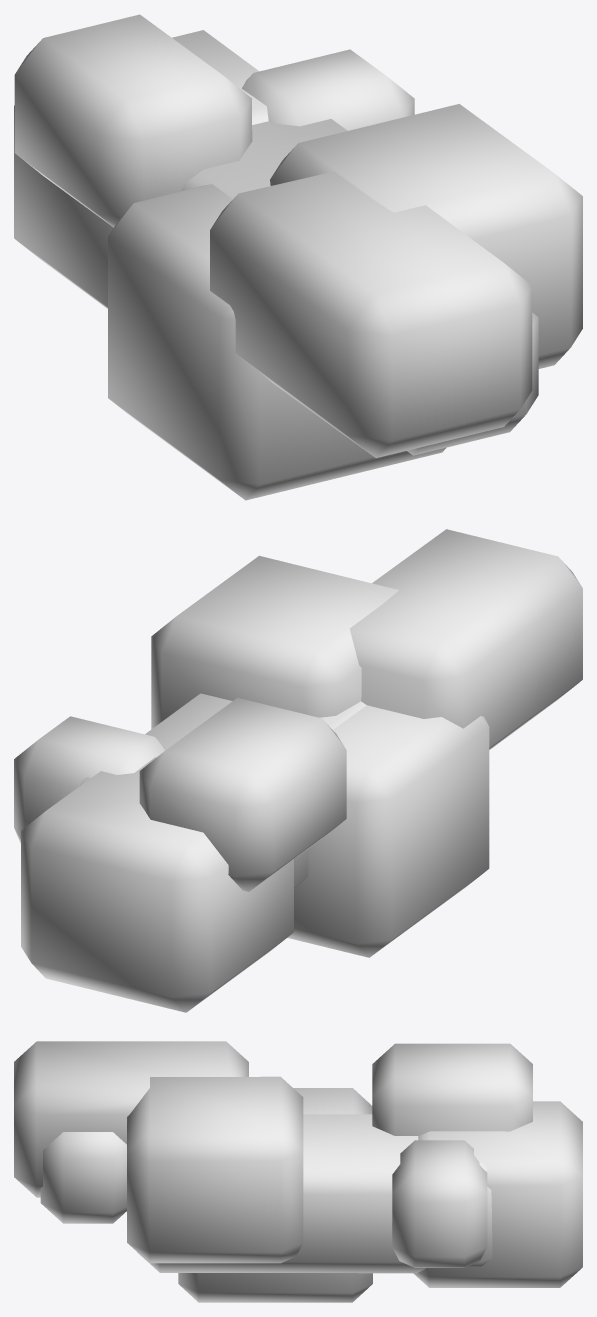
The model's file is Cloud_1.fbx.
The picture shows the model from 3 angles, top to bottom: view 1: azimuth 30°, elevation 25°; view 2: azimuth 150°, elevation 25°; view 3: azimuth 270°, elevation 25°; orthographic projection. The views are drawn at different scales.
Visible parts, largest first — view 1: Cloud_1; view 2: Cloud_1; view 3: Cloud_1.
Part boxes in pixels (x1,y1,x2,y2): Cloud_1: [14, 14, 582, 500]; Cloud_1: [14, 529, 582, 1012]; Cloud_1: [14, 1041, 582, 1302].
Size of the model in its own units: 819 by 648 by 1665.
